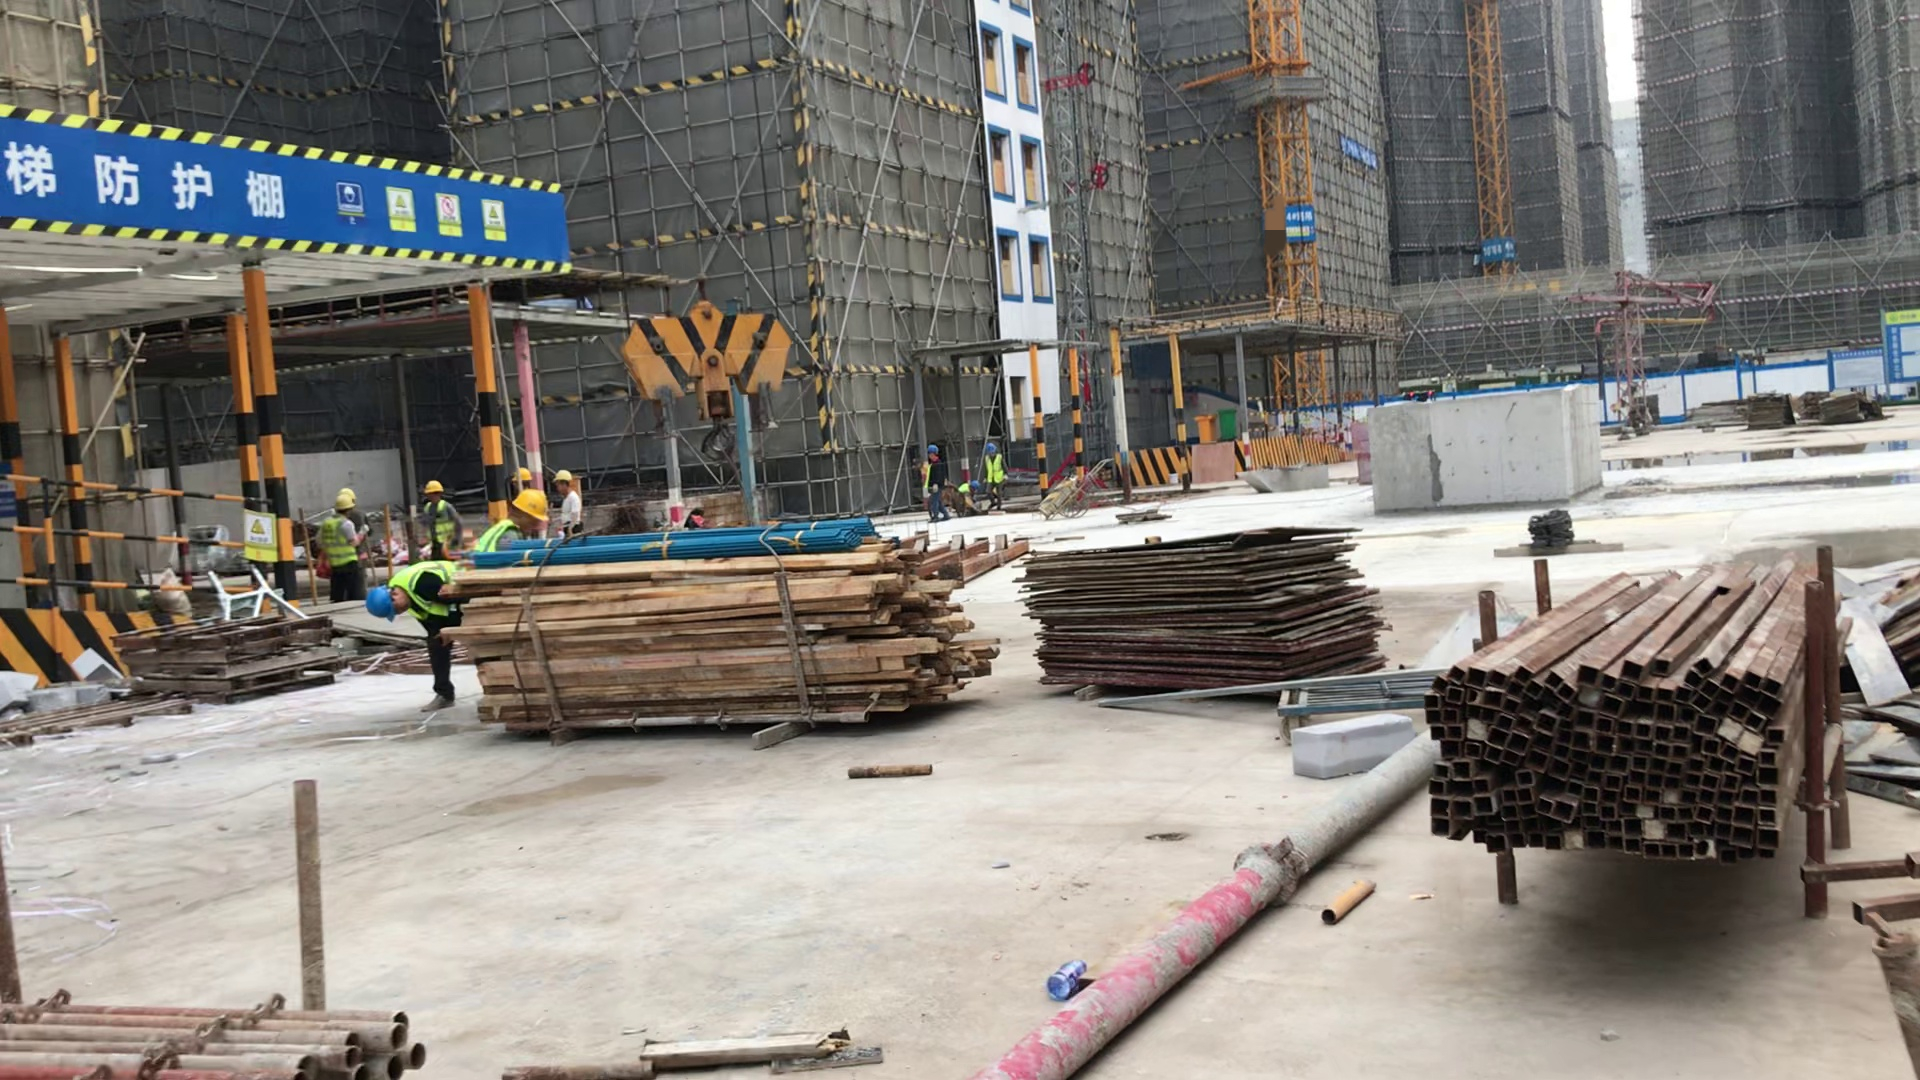board: (1029, 538, 1386, 687)
ebox: (1196, 414, 1216, 447)
handcart: (1038, 473, 1098, 520)
helmet: (512, 490, 549, 522), (367, 588, 394, 623), (333, 495, 355, 509), (552, 470, 572, 482), (423, 480, 442, 493), (512, 469, 532, 481), (925, 444, 939, 455), (987, 443, 998, 454), (970, 480, 980, 490)
hook: (623, 301, 792, 464)
hopper: (1235, 461, 1333, 492)
person: (367, 562, 463, 709), (325, 493, 366, 608), (475, 491, 548, 550), (423, 481, 460, 565), (552, 470, 588, 541), (924, 444, 946, 523), (985, 443, 1007, 507)
scaffold: (1440, 570, 1825, 854), (1, 996, 445, 1080)
slogan: (331, 174, 509, 243), (242, 511, 275, 566), (1339, 137, 1379, 165)
vest: (390, 564, 461, 618), (318, 519, 357, 569), (471, 526, 524, 557), (425, 505, 452, 545), (984, 455, 1005, 485)
wood: (465, 565, 997, 723)
